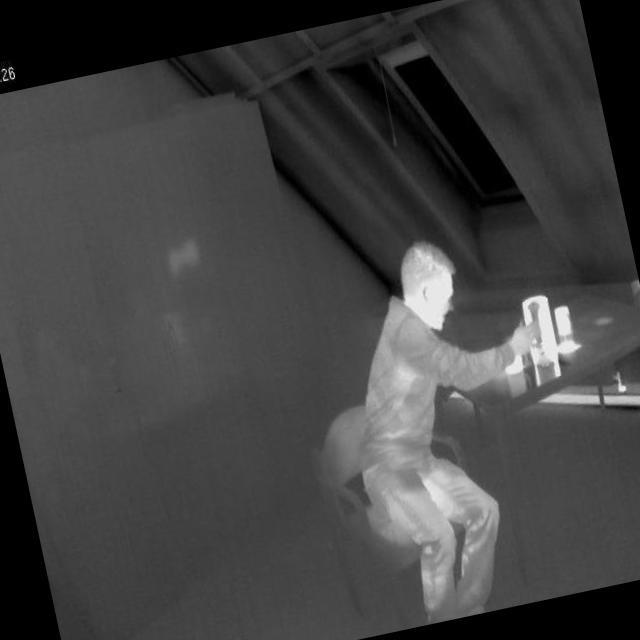person: (309, 212, 588, 632)
